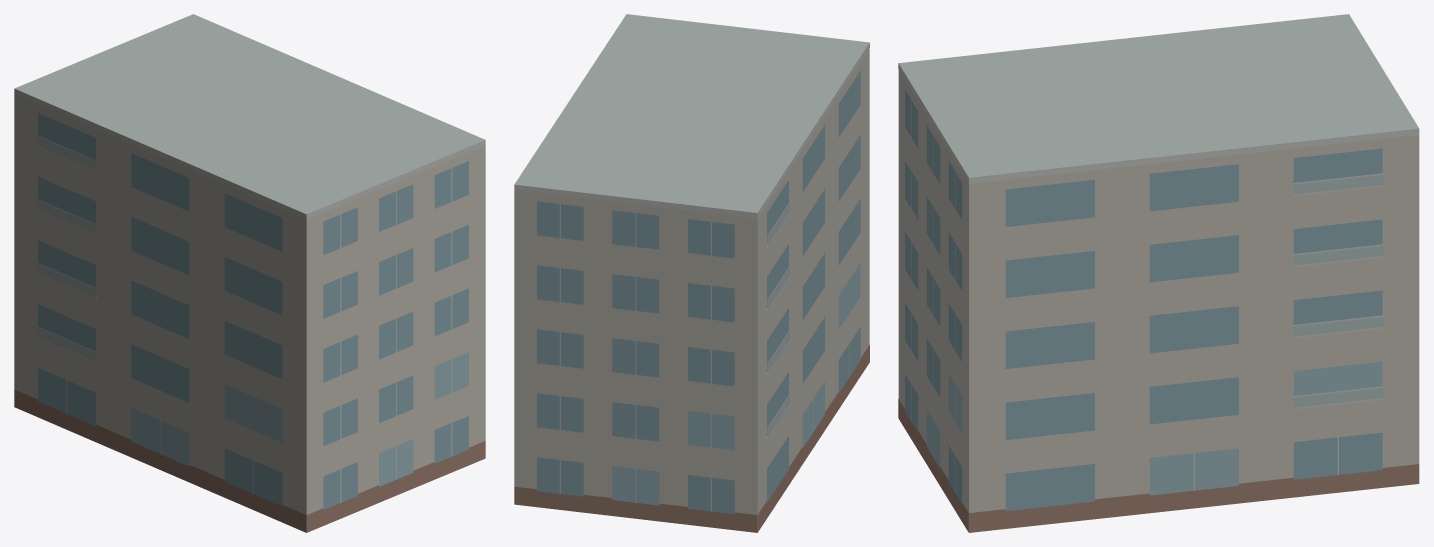
File: survey-upis-32988543.glb
The picture shows the model from 3 angles, left to right: view 1: azimuth 30°, elevation 25°; view 2: azimuth 150°, elevation 25°; view 3: azimuth 270°, elevation 25°; orthographic projection. The views are drawn at different scales.
Visible parts, largest first — view 1: survey-upis-32988543.tmp; view 2: survey-upis-32988543.tmp; view 3: survey-upis-32988543.tmp.
Part boxes in pixels (box(x1,y1,x2,y2)): survey-upis-32988543.tmp: box(14, 14, 485, 532); survey-upis-32988543.tmp: box(514, 14, 869, 532); survey-upis-32988543.tmp: box(898, 14, 1419, 532).
Bounding box in the file's own units: 14.05 × 14.2 × 18.89.
